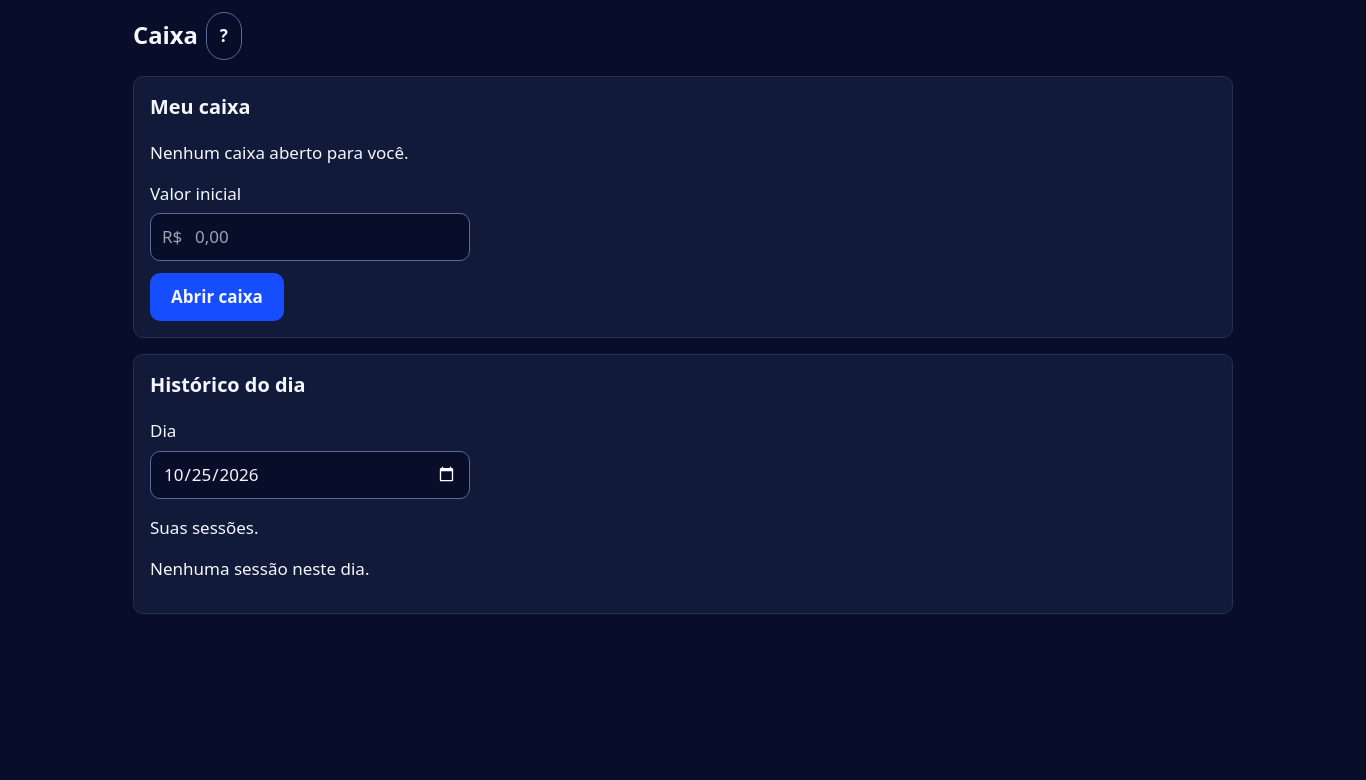
caixa na tela › abre o próprio caixa e recarrega a sessão ABERTA
This screenshot has width=1366, height=780.
expect the text "Nenhum caixa aberto para você." is shown: met, box [150,141,409,164]
In the field labelled "Valor inicial": (310, 237) [150,213,470,261], type "20.00"
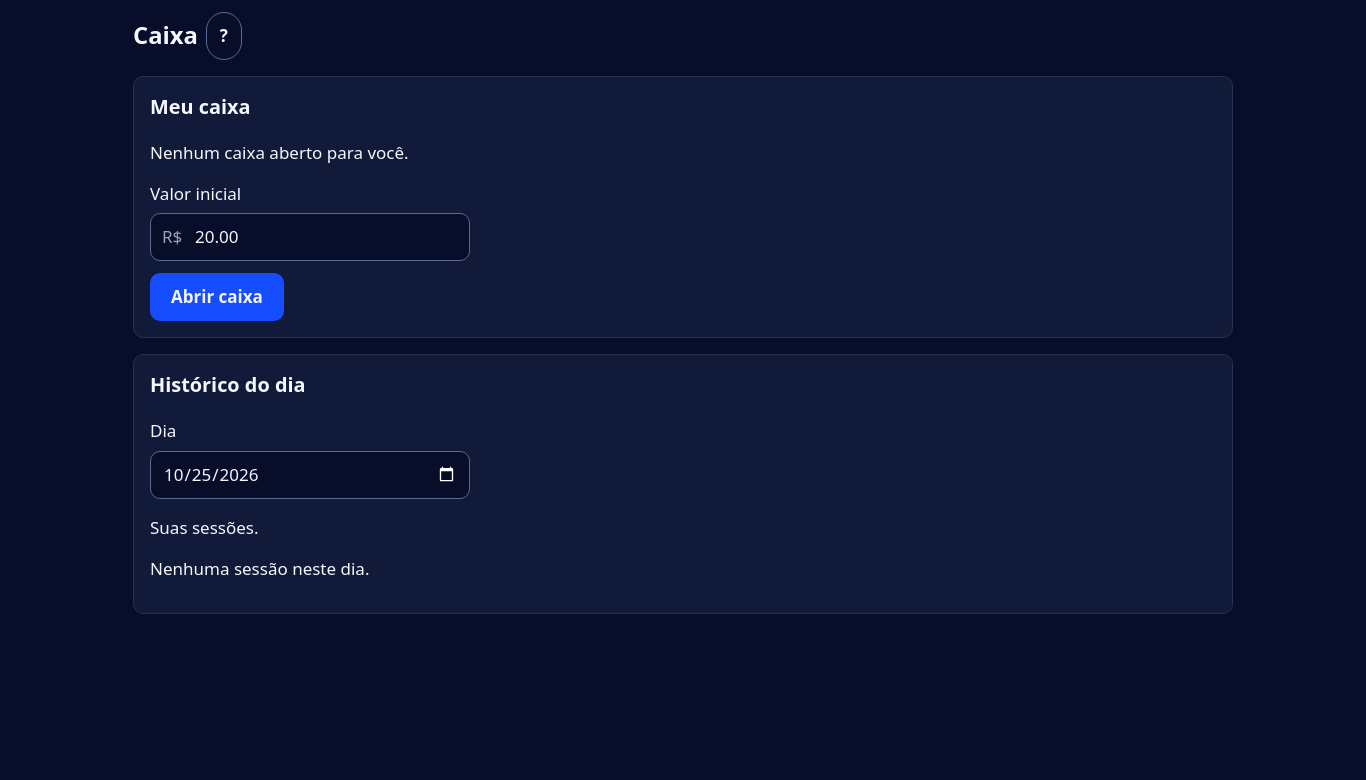
Click the button "Abrir caixa": (217, 297) [150,273,284,321]
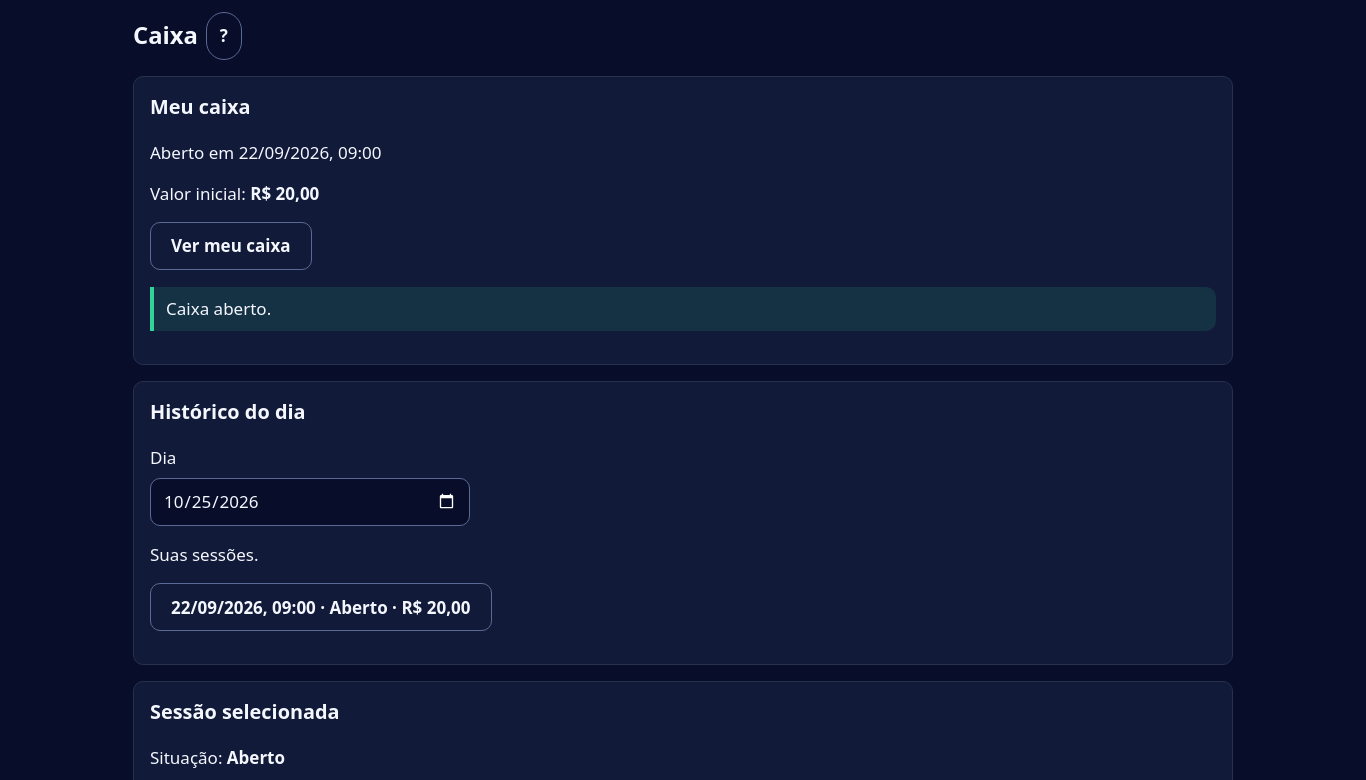
expect the button "Ver meu caixa" is shown: met, box [150,222,312,270]
